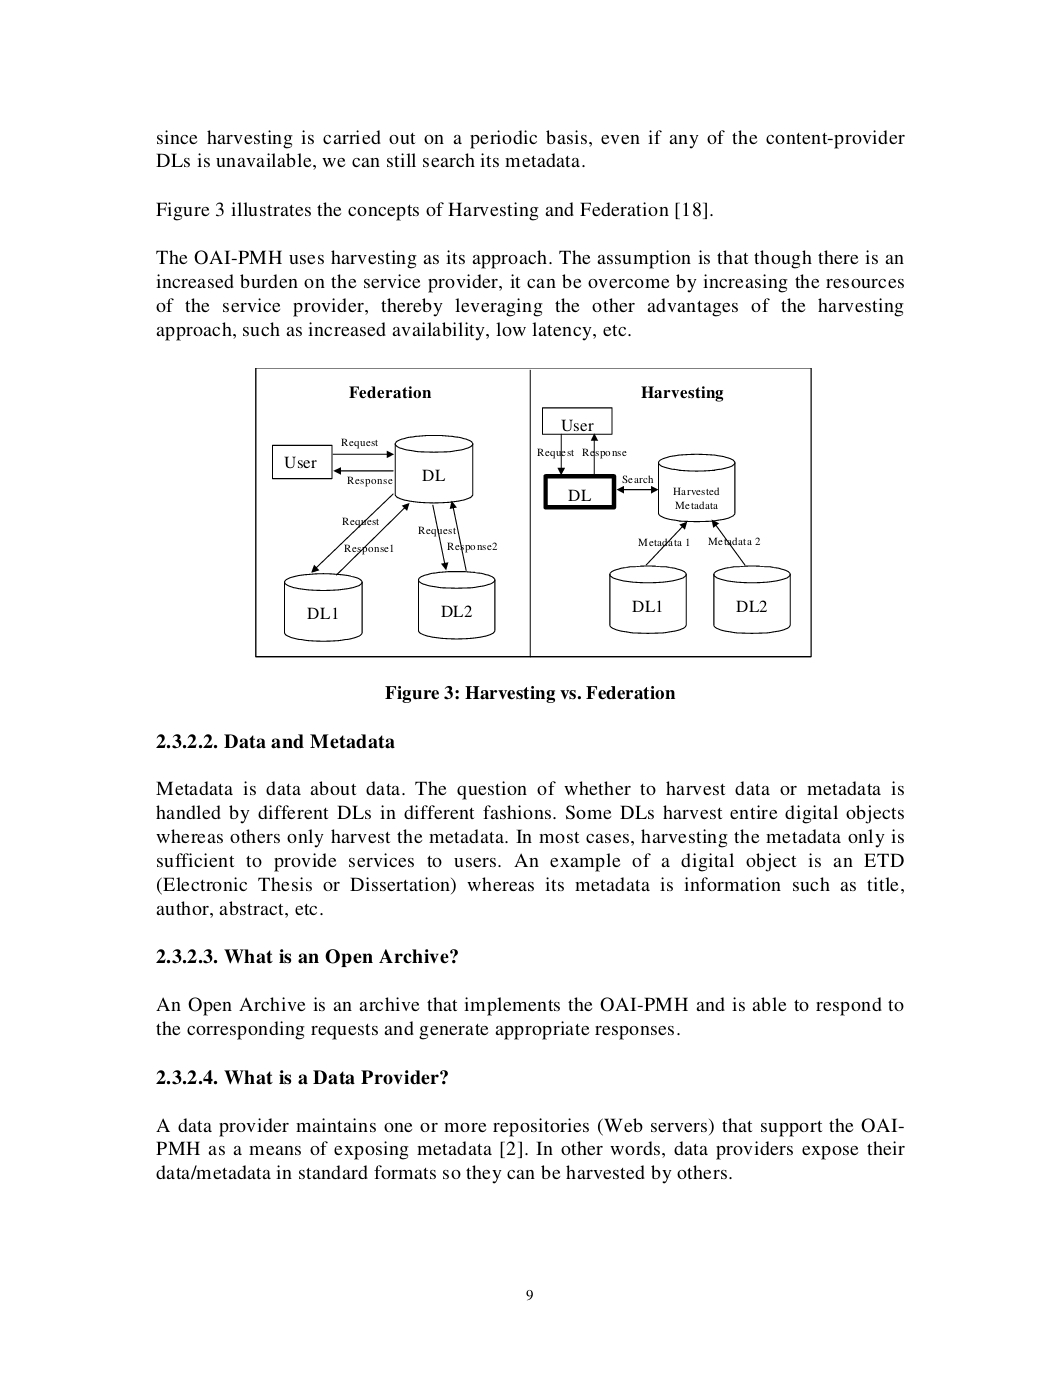figure: (255, 367, 811, 658)
